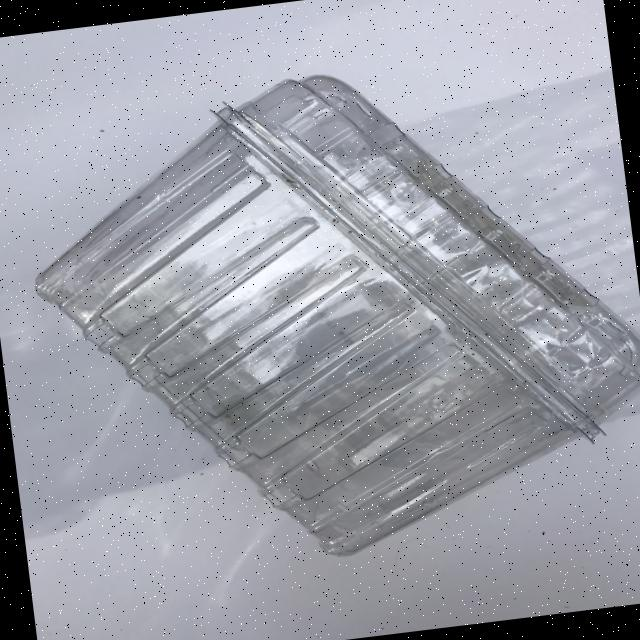plastic: (11, 37, 640, 590)
